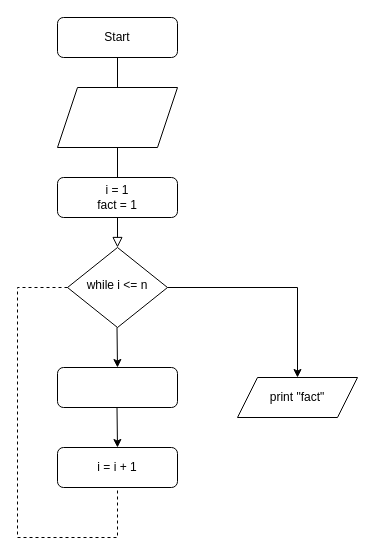
Some shapes in this 375 by 556 pixel diagram are drawn without their labels. The shapes that lost their labels are listed below. From the top down, each one's centre as x and y in pixels, then its label:
At point 117,117: "Input n".
At point 117,387: "fact = fact * i".
